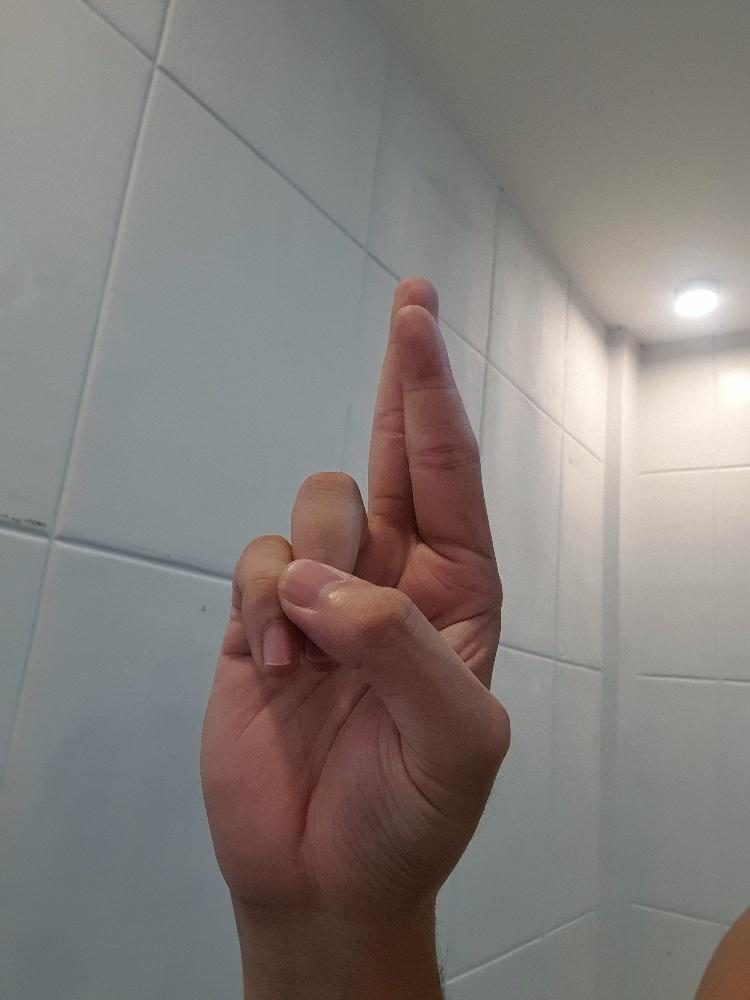r: (193, 272, 515, 921)
